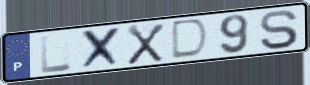9: (217, 12, 253, 55)
D: (169, 17, 212, 61)
L: (39, 33, 74, 75)
S: (258, 8, 300, 51)
X: (80, 25, 124, 71), (126, 22, 167, 67)
